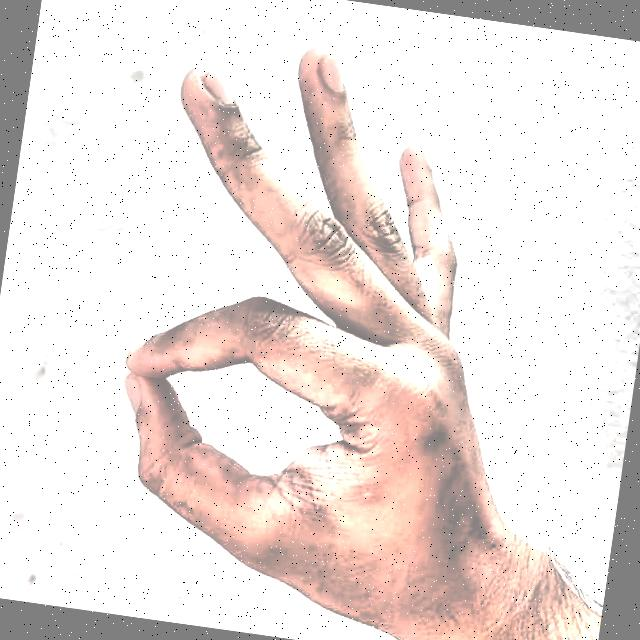Ca: (66, 0, 603, 640)
